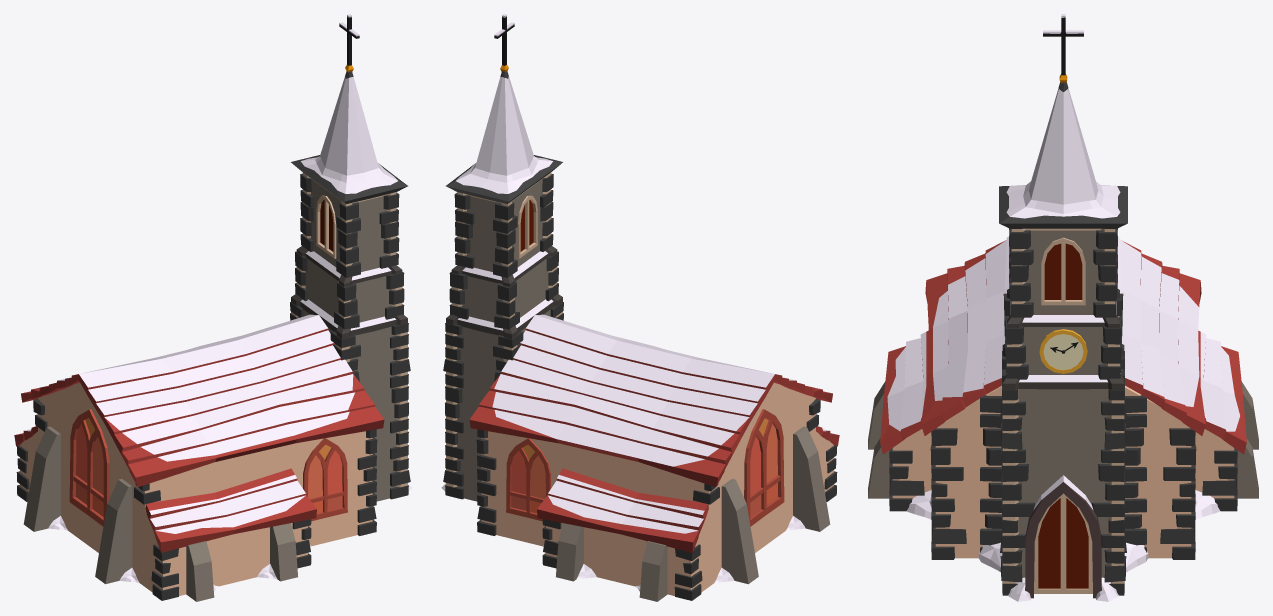
The model's file is church.glb.
The picture shows the model from 3 angles, left to right: view 1: azimuth 30°, elevation 25°; view 2: azimuth 150°, elevation 25°; view 3: azimuth 270°, elevation 25°; orthographic projection. The views are drawn at different scales.
Parts seen in each view (by area): view 1: Church; view 2: Church; view 3: Church.
Boxes of the visible parts, x1,y1,x2,y2 form: Church: (14, 14, 412, 601); Church: (441, 14, 839, 601); Church: (868, 14, 1258, 601).
Size of what is drawn, in the model's own units: 7.66 by 10.45 by 6.59.
1 material, 1 textured.
